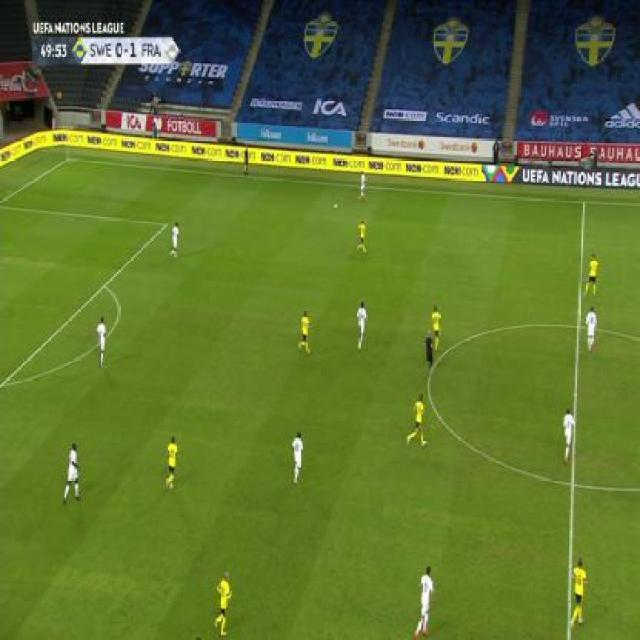ball: (333, 201, 338, 210)
player: (413, 564, 439, 640), (567, 553, 590, 630), (212, 568, 234, 636), (405, 394, 430, 451), (62, 441, 82, 506), (561, 405, 577, 468), (164, 435, 180, 492), (289, 429, 305, 485), (582, 251, 601, 297), (354, 298, 370, 351), (297, 309, 313, 357), (95, 315, 109, 369), (584, 306, 598, 354), (422, 332, 435, 380), (429, 303, 442, 351), (355, 218, 368, 255), (169, 222, 180, 261), (357, 172, 366, 201), (243, 145, 249, 176)
